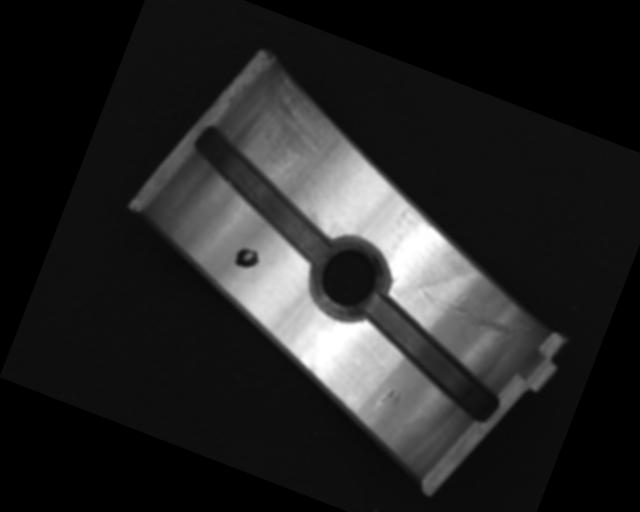blot: (232, 243, 263, 272)
bruise: (369, 383, 404, 421)
gap: (171, 121, 355, 266), (340, 290, 521, 426)
hole: (297, 223, 404, 332)
nick: (401, 278, 536, 367)
scratch: (223, 62, 370, 227)
